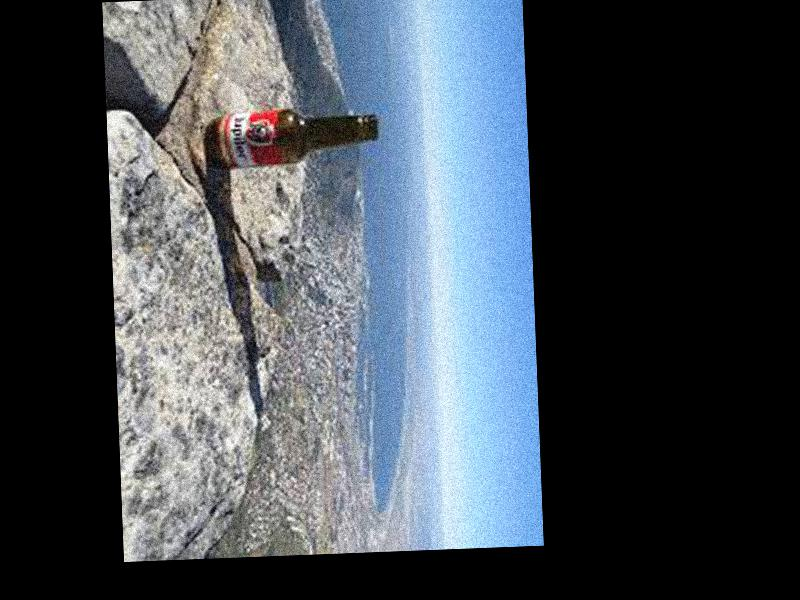Beer: (210, 104, 381, 169)
